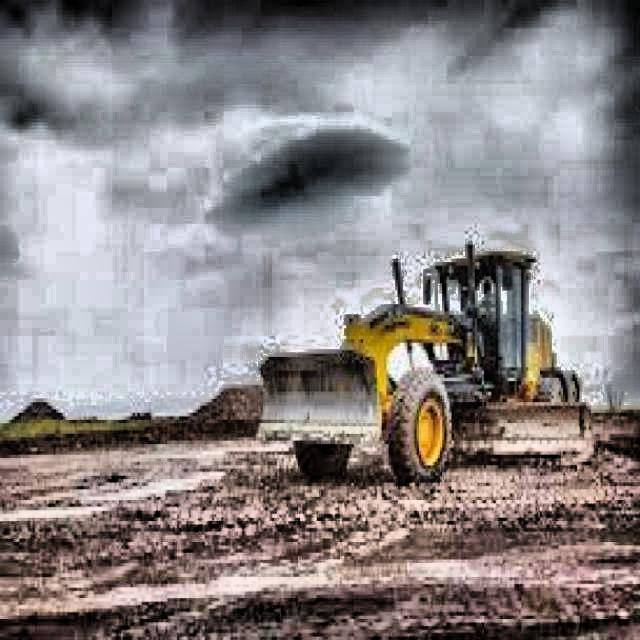bull_dozer/loader/grader: (252, 242, 598, 488)
person: (474, 276, 501, 328)
